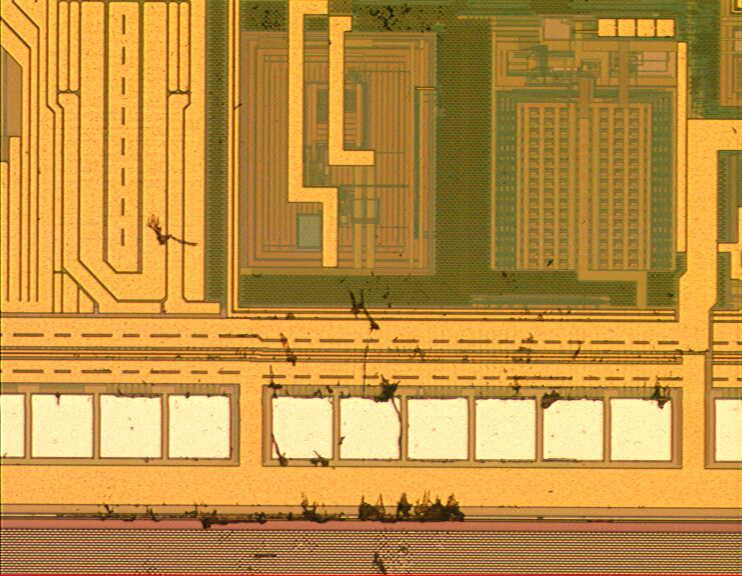PO CONTAMINATION: (48, 1, 712, 576)
